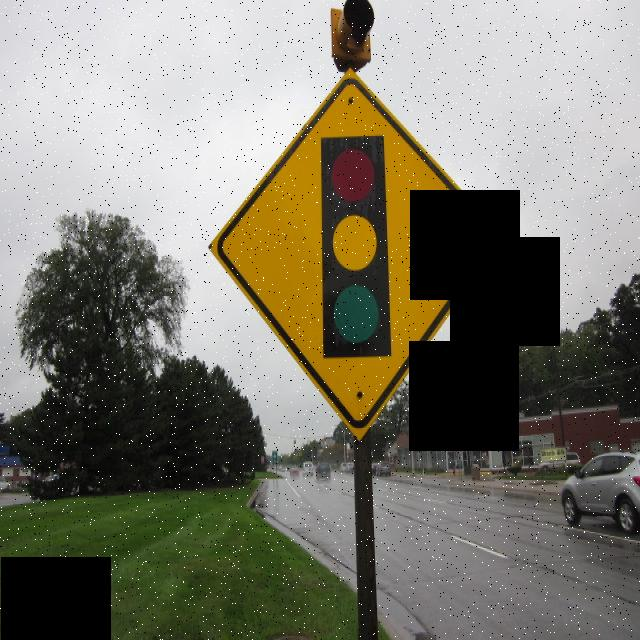warning: (207, 78, 509, 436)
